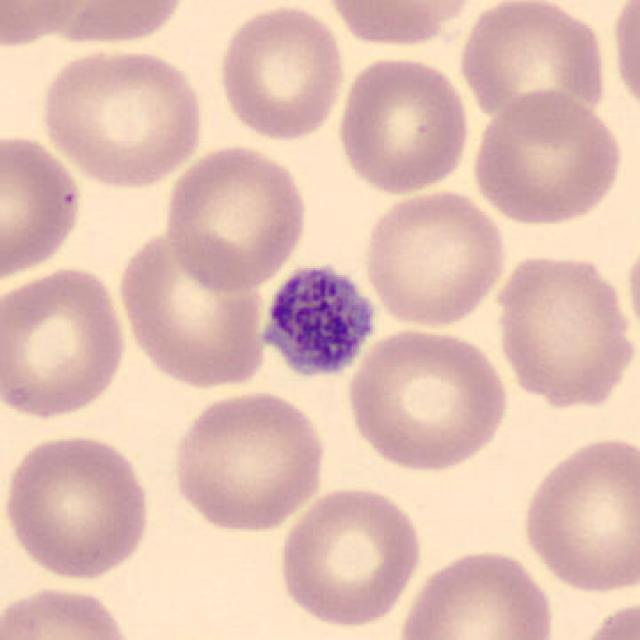Platelets: (252, 260, 380, 384)
RBC: (114, 226, 272, 391), (343, 323, 512, 476), (36, 42, 208, 190), (167, 386, 331, 534), (0, 430, 156, 583), (491, 247, 636, 411), (158, 140, 311, 294), (468, 84, 626, 228), (274, 482, 425, 630), (361, 185, 508, 330), (0, 263, 130, 423), (332, 53, 474, 197), (455, 0, 612, 129), (518, 432, 638, 596), (214, 1, 348, 144), (393, 545, 558, 640), (0, 128, 85, 285), (318, 0, 482, 51), (0, 582, 139, 640), (27, 0, 194, 48), (0, 0, 87, 51), (608, 0, 640, 122), (569, 594, 640, 640), (624, 232, 640, 352)
